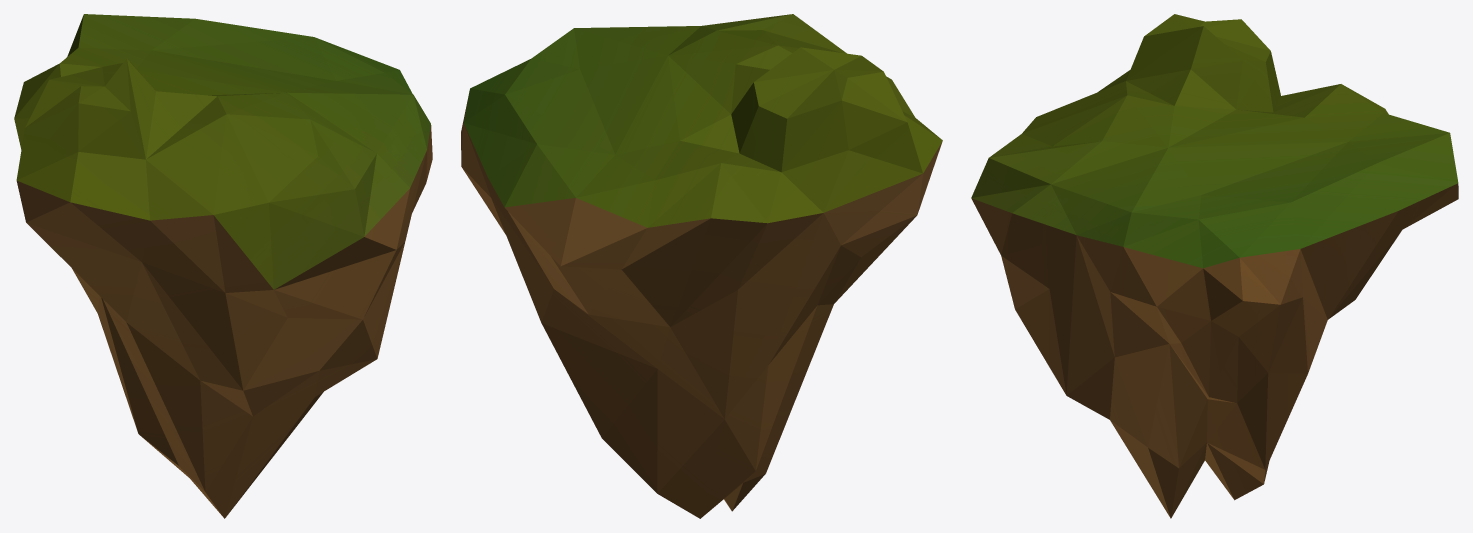
File: floating_rock v2.fbx
3 renders of one model, left to right at view 1: azimuth 30°, elevation 25°; view 2: azimuth 150°, elevation 25°; view 3: azimuth 270°, elevation 25°, orthographic. The views are drawn at different scales.
Parts seen in each view (by area): view 1: rock_1; view 2: rock_1; view 3: rock_1.
Part boxes in pixels (left/top/right/bottom): rock_1: left=14, top=14, right=432, bottom=518; rock_1: left=461, top=14, right=942, bottom=518; rock_1: left=971, top=14, right=1458, bottom=518.
Size of the model in its own units: 19979 by 21734 by 21133.
